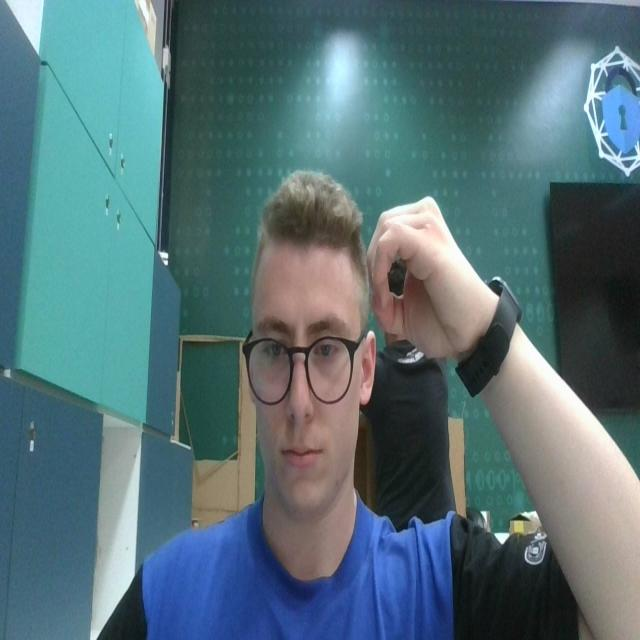O: (368, 190, 477, 358)
